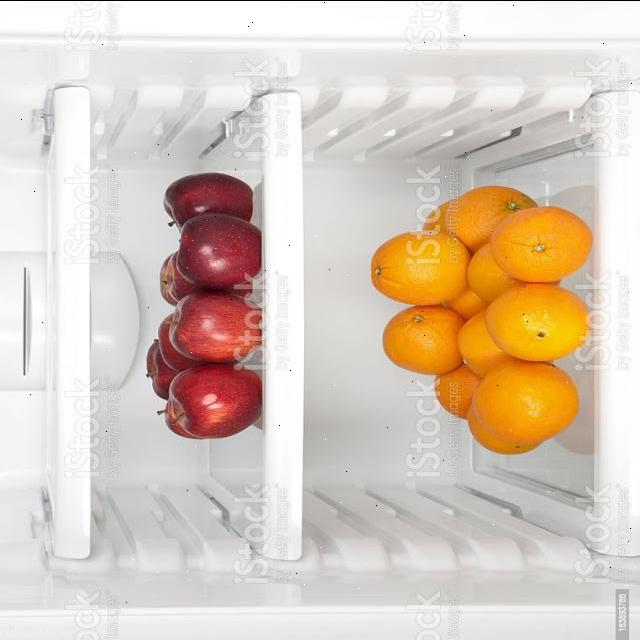Orange: (369, 185, 592, 454), (489, 206, 592, 283), (369, 231, 469, 306)
